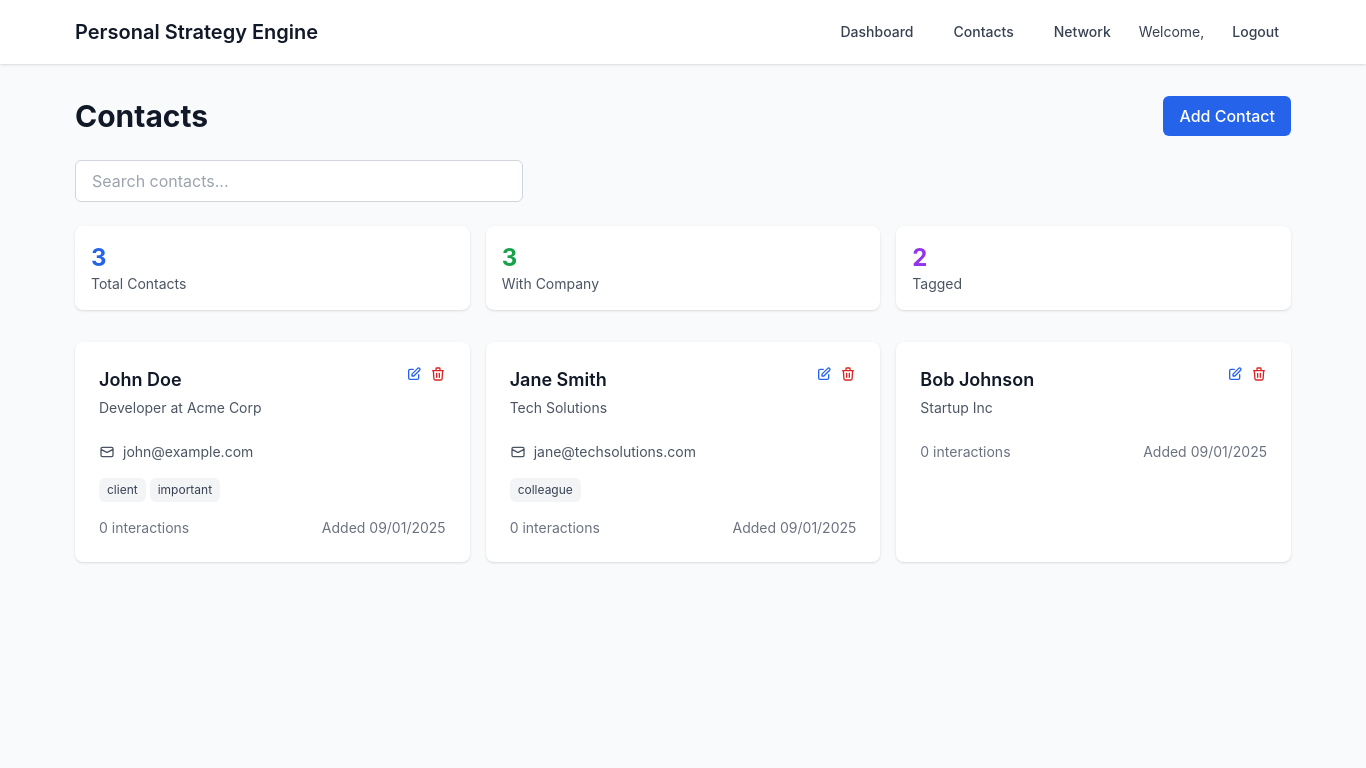
Test: ContactsPage Integration › Contact Form Integration › should open edit contact form
The image size is (1366, 768).
Click the button titled "Edit contact" in the row of "John Doe".
click(414, 374)  # box [406,366,422,382]
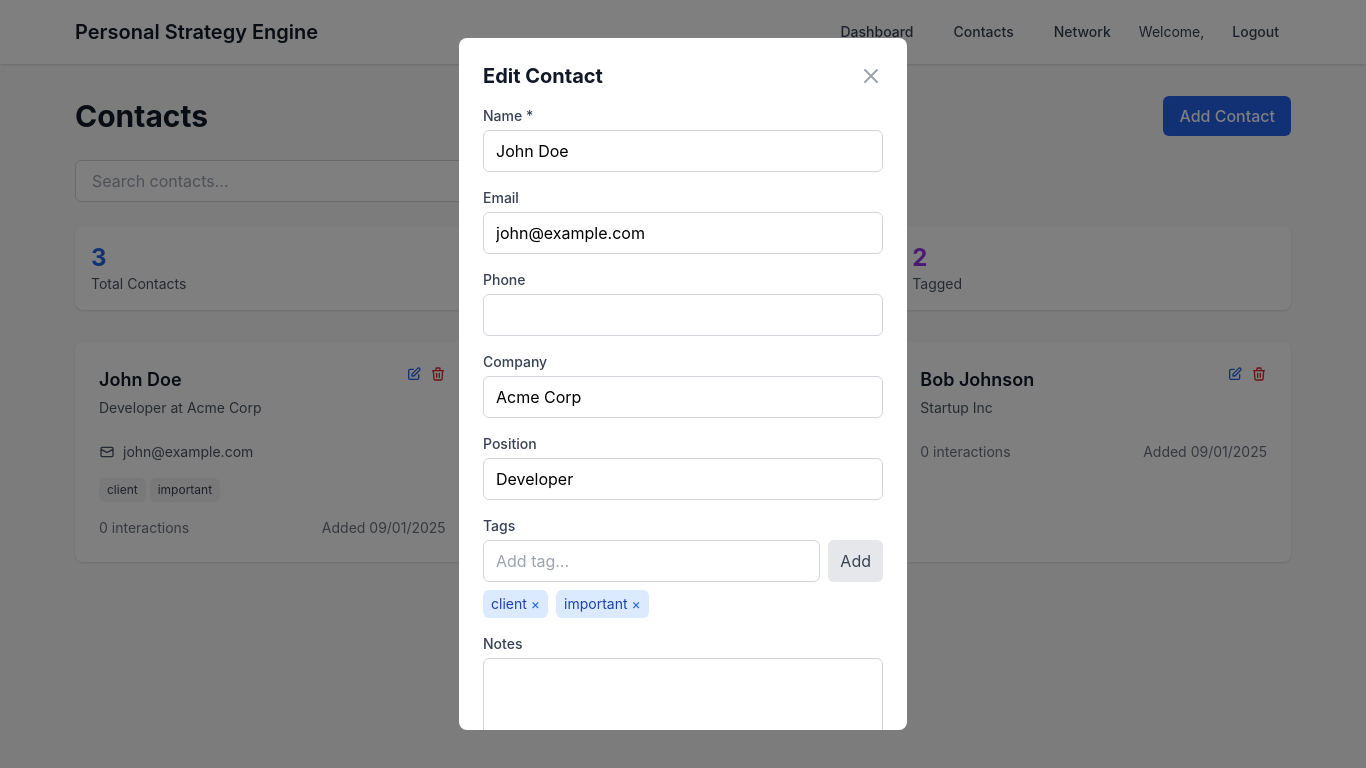
Check: the heading "Edit Contact" is shown, box [483,62,603,90]
Check: the field showing "John Doe" is shown, box [483,130,883,172]
